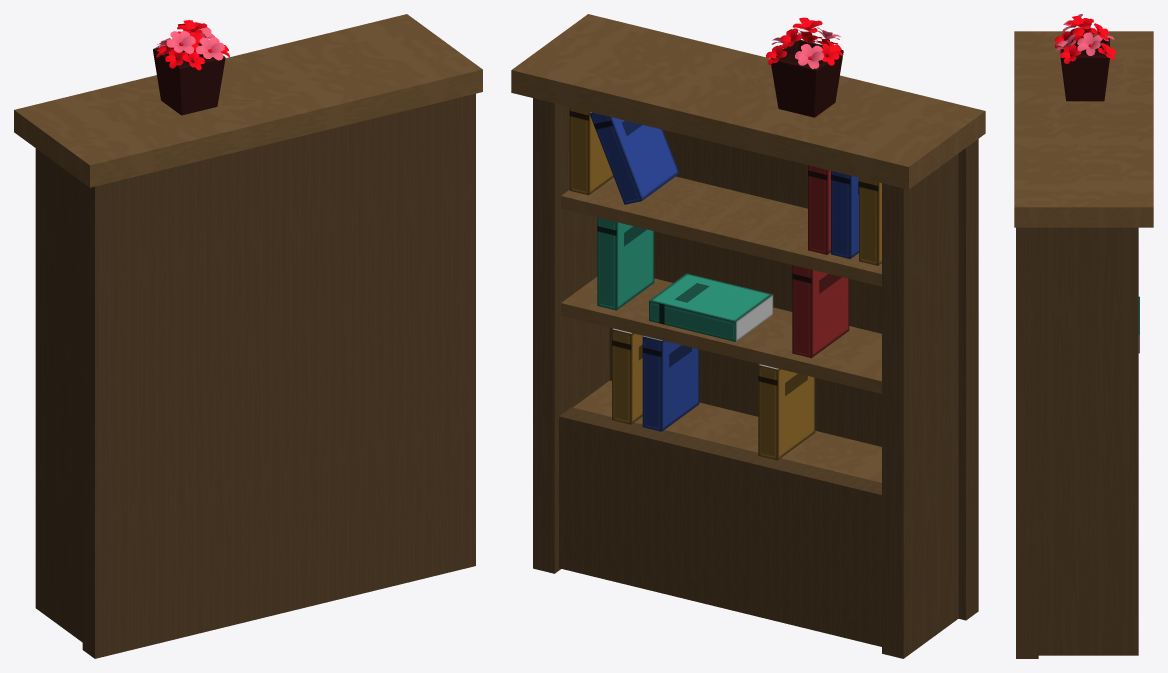
Rendered from schrank.dae.
3 renders of one model, left to right at view 1: azimuth 30°, elevation 25°; view 2: azimuth 150°, elevation 25°; view 3: azimuth 270°, elevation 25°, orthographic. The views are drawn at different scales.
Visible parts, largest first — view 1: Würfel, Würfel.3, Würfel.2, flower_pot_03; view 2: Würfel.7, Würfel.3, Würfel.2, Würfel, Würfel.1, Würfel.4, Würfel.5 (×2), Würfel.6 (×2), Würfel.13, flower_pot_03, Würfel.9, Würfel.16 (+6 smaller); view 3: Würfel.1, Würfel.3, Würfel, flower_pot_03.
Part boxes in pixels (x1=…): Würfel: x1=82, y1=93, x2=475, y2=658; Würfel.3: x1=14, y1=14, x2=482, y2=187; Würfel.2: x1=35, y1=148, x2=82, y2=642; flower_pot_03: x1=153, y1=20, x2=229, y2=115; Würfel.7: x1=559, y1=407, x2=881, y2=646; Würfel.3: x1=511, y1=14, x2=985, y2=189; Würfel.2: x1=882, y1=153, x2=958, y2=658; Würfel: x1=609, y1=130, x2=978, y2=620; Würfel.1: x1=533, y1=98, x2=609, y2=573; Würfel.4: x1=561, y1=176, x2=881, y2=286; Würfel.5 (×2): x1=561, y1=177, x2=881, y2=393; Würfel.6 (×2): x1=569, y1=107, x2=881, y2=482; Würfel.13: x1=649, y1=273, x2=773, y2=341; flower_pot_03: x1=766, y1=17, x2=843, y2=117; Würfel.9: x1=589, y1=112, x2=679, y2=204; Würfel.16: x1=758, y1=364, x2=815, y2=460; Würfel.1: x1=1038, y1=227, x2=1138, y2=655; Würfel.3: x1=1014, y1=31, x2=1153, y2=227; Würfel: x1=1016, y1=227, x2=1038, y2=658; flower_pot_03: x1=1054, y1=14, x2=1116, y2=101.
Size of the model in its own units: 165 by 231 by 55.17.
10 materials, 6 textured.
